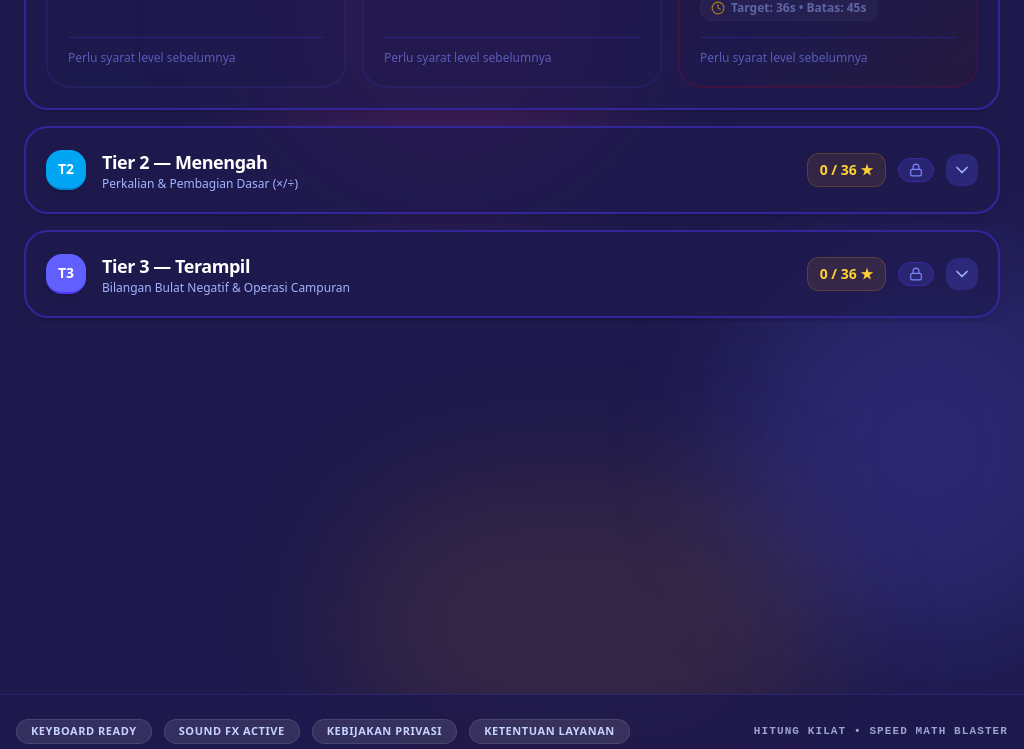
Test: Terms Routing Integration › navigates to /terms-of-service when clicking Ketentuan Layanan in the game footer
The width and height of the screenshot is (1024, 749).
(page scrolled)
Step 1. Click the button "Ketentuan Layanan" → [549, 731], box [469,719,630,744]
(page scrolled)
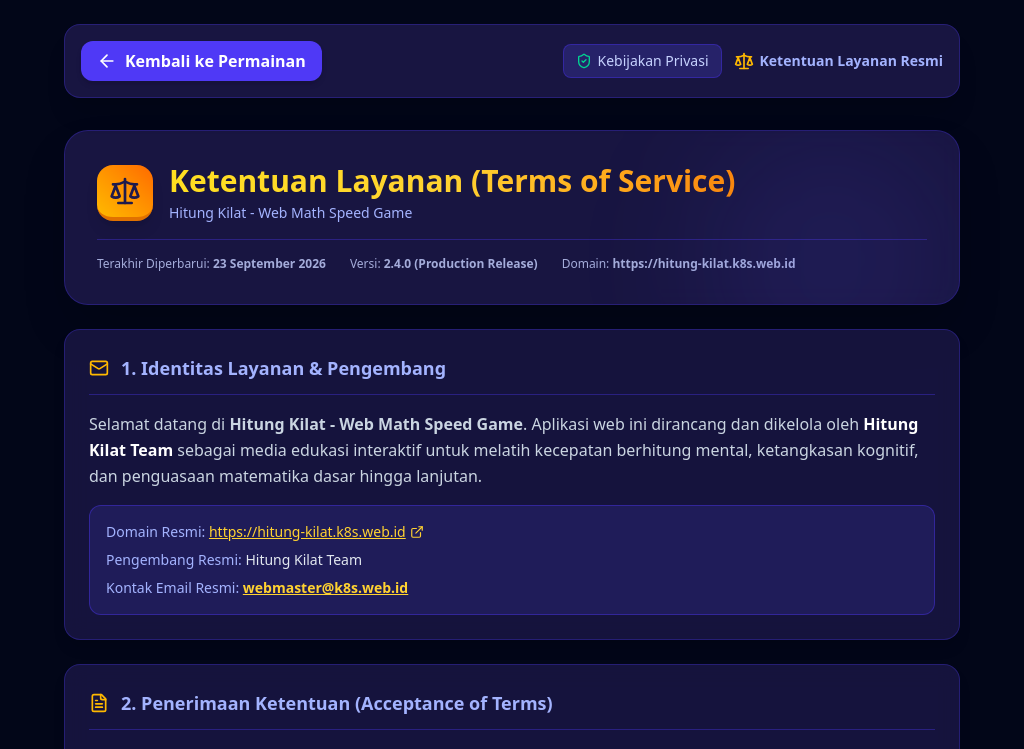
Expected: the heading "Ketentuan Layanan (Terms of Service)" is shown, [169,163,735,199]
